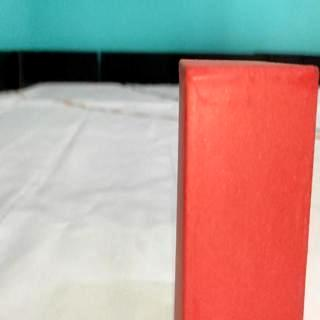redbox: (185, 60, 306, 320)
